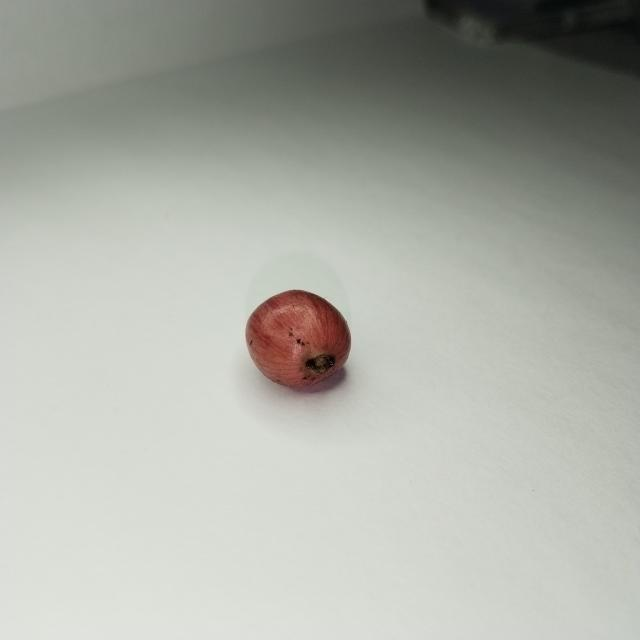Infectado: (245, 290, 352, 390)
